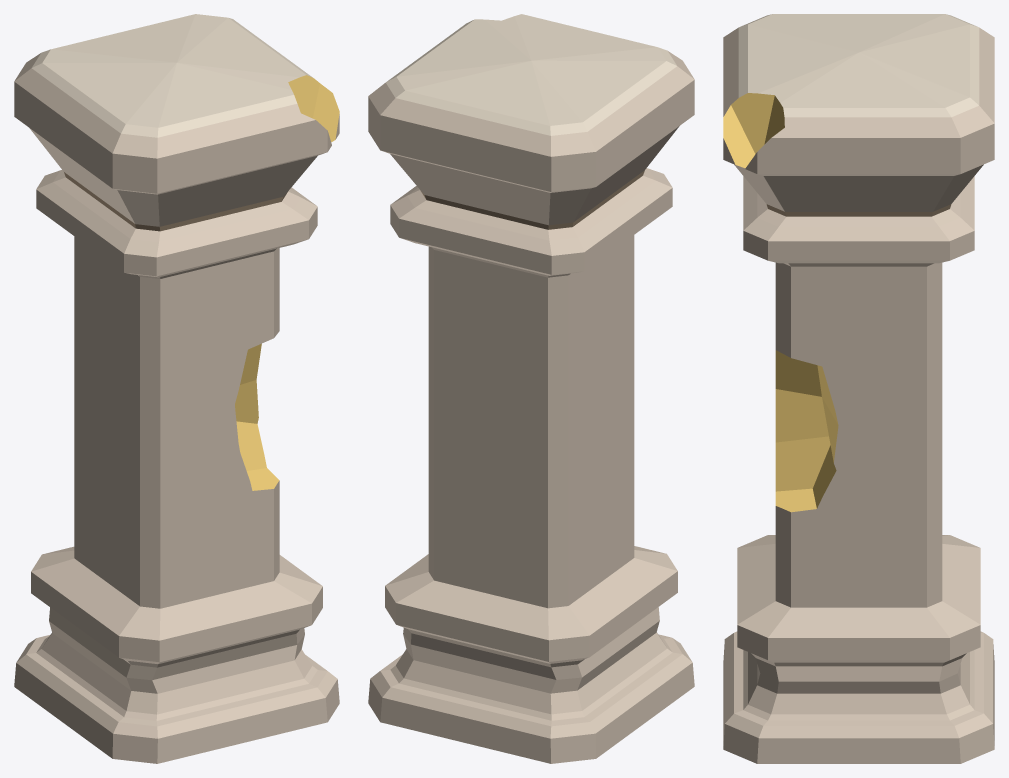
The model's file is Pilar_Antiguo.glb.
3 renders of one model, left to right at view 1: azimuth 30°, elevation 25°; view 2: azimuth 150°, elevation 25°; view 3: azimuth 270°, elevation 25°, orthographic. The views are drawn at different scales.
Parts seen in each view (by area): view 1: Pilar_Antiguo; view 2: Pilar_Antiguo; view 3: Pilar_Antiguo.
Part boxes in pixels (bbox=[...]): Pilar_Antiguo: bbox=[14, 14, 339, 763]; Pilar_Antiguo: bbox=[368, 14, 694, 763]; Pilar_Antiguo: bbox=[723, 14, 994, 763].
Size of the model in its own units: 2.85 by 7.57 by 2.85.
